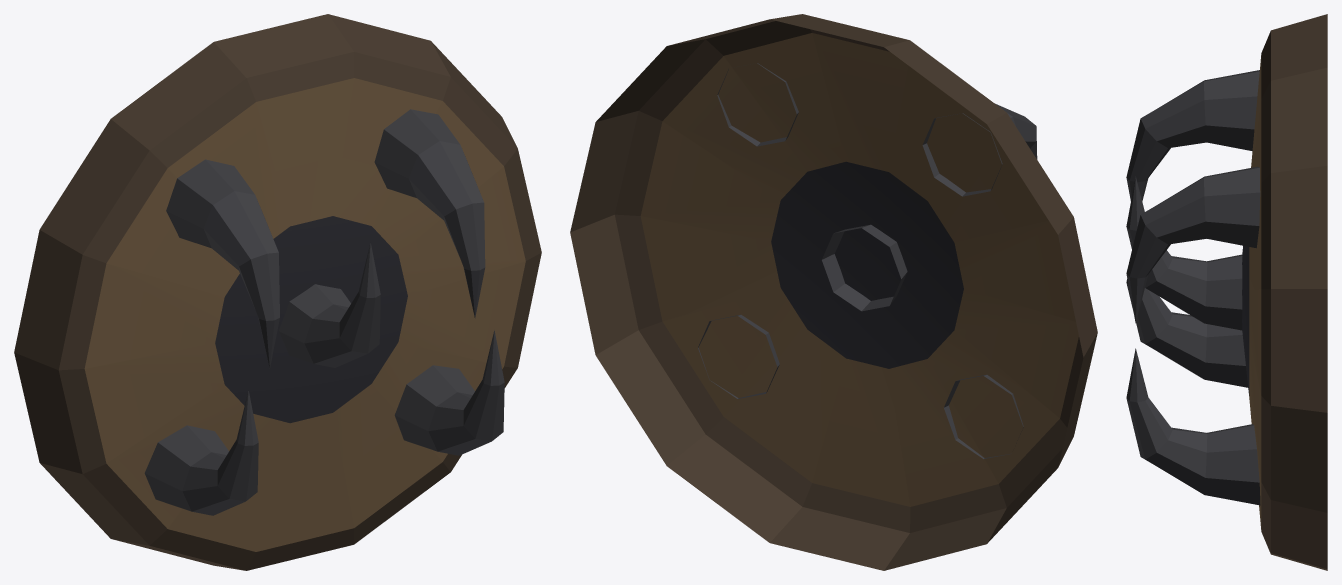
Rendered from Shield_3.fbx.
3 renders of one model, left to right at view 1: azimuth 30°, elevation 25°; view 2: azimuth 150°, elevation 25°; view 3: azimuth 270°, elevation 25°, orthographic. The views are drawn at different scales.
Visible parts, largest first — view 1: pCone8; view 2: pCone8; view 3: pCone8.
Boxes of the visible parts, x1,y1,x2,y2 form: pCone8: (14, 14, 541, 570); pCone8: (570, 14, 1097, 570); pCone8: (1126, 14, 1327, 570).
Size of the model in its own units: 129 by 126 by 45.53.
